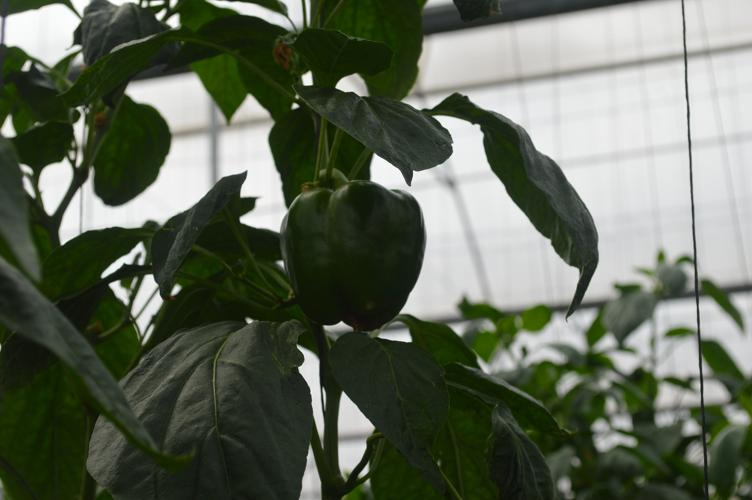BellPepper: (271, 181, 429, 334)
